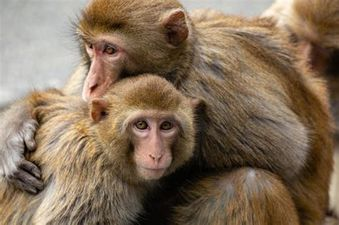monkey: (57, 0, 327, 225), (28, 47, 179, 211)
